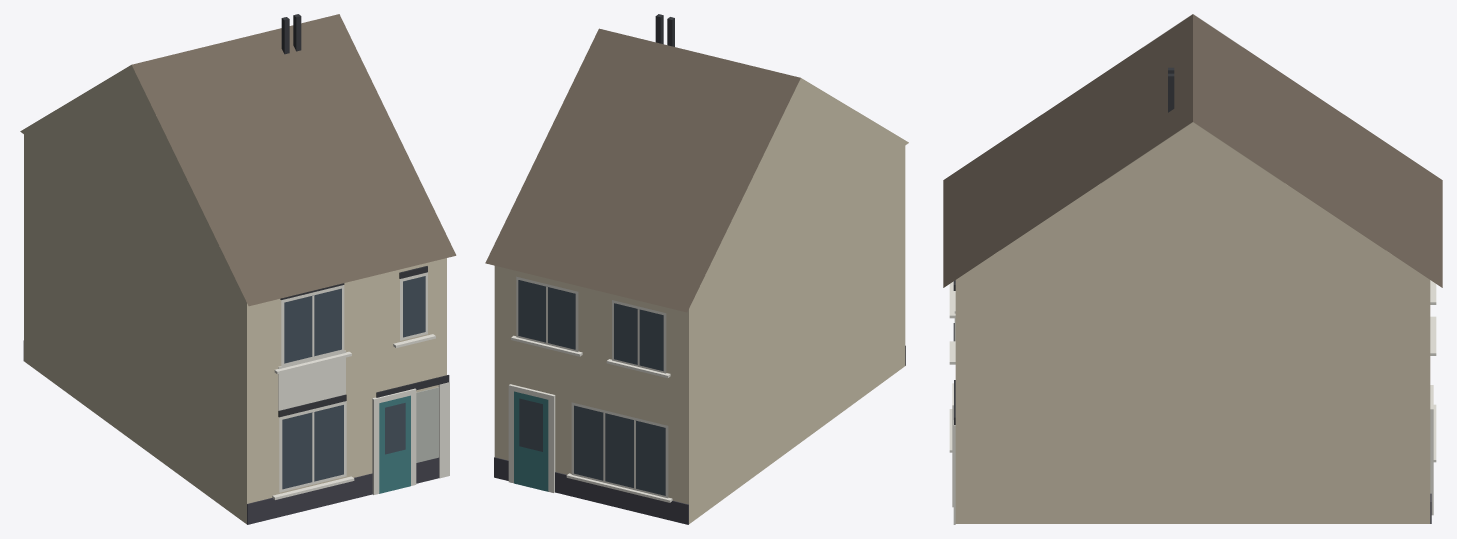
File: nw-ee-buff-row__buff__2__gable__long__solid.glb
3 views of the same model, side by side, from view 1: azimuth 30°, elevation 25°; view 2: azimuth 150°, elevation 25°; view 3: azimuth 270°, elevation 25° (orthographic). The views are drawn at different scales.
Visible parts, largest first — view 1: nw-ee-buff-row__buff__2__gable__long__solid; view 2: nw-ee-buff-row__buff__2__gable__long__solid; view 3: nw-ee-buff-row__buff__2__gable__long__solid.
Boxes of the visible parts, box(x1,y1,x2,y2) form: nw-ee-buff-row__buff__2__gable__long__solid: box(20, 14, 456, 524); nw-ee-buff-row__buff__2__gable__long__solid: box(485, 14, 908, 524); nw-ee-buff-row__buff__2__gable__long__solid: box(943, 14, 1442, 524).
Size of the model in its own units: 5.28 by 9.65 by 10.3.
